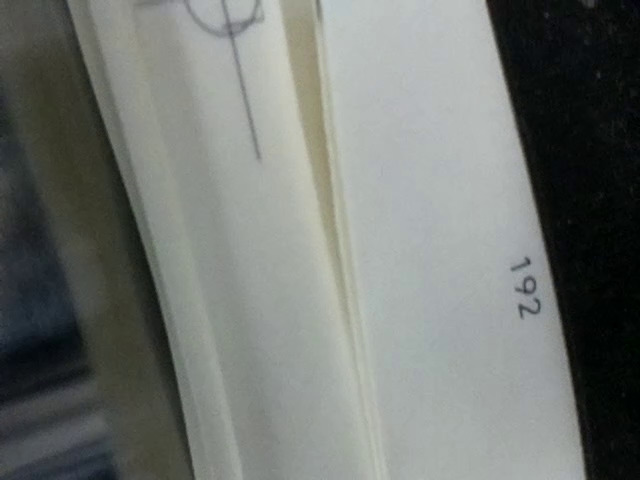not_sure: (137, 1, 276, 42)
